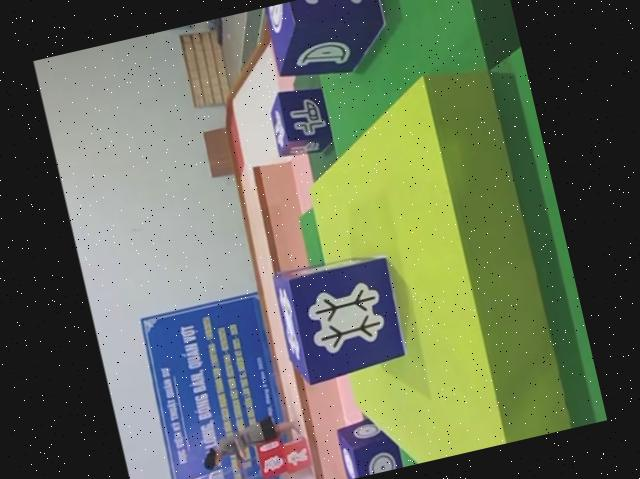R2 Real Blue: (270, 248, 413, 389), (262, 0, 396, 86), (267, 81, 339, 160), (332, 412, 403, 479)
